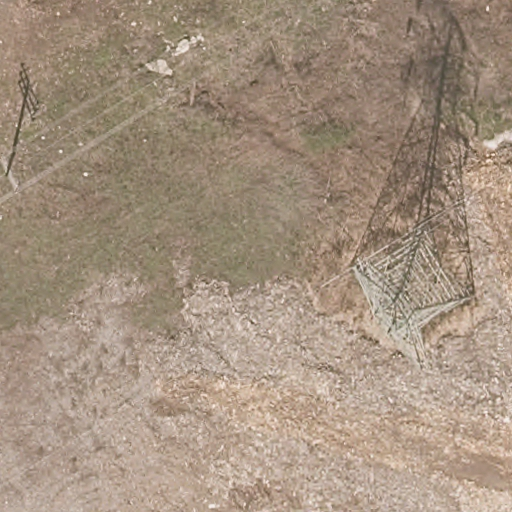TT: (352, 225, 468, 359)
